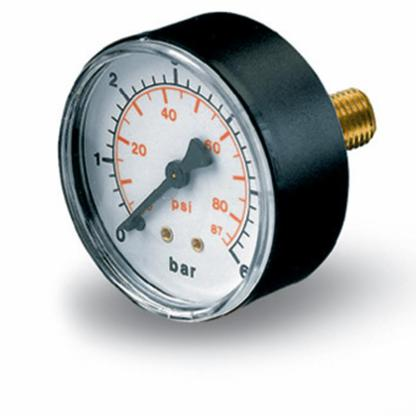needle: (117, 176, 174, 232)
